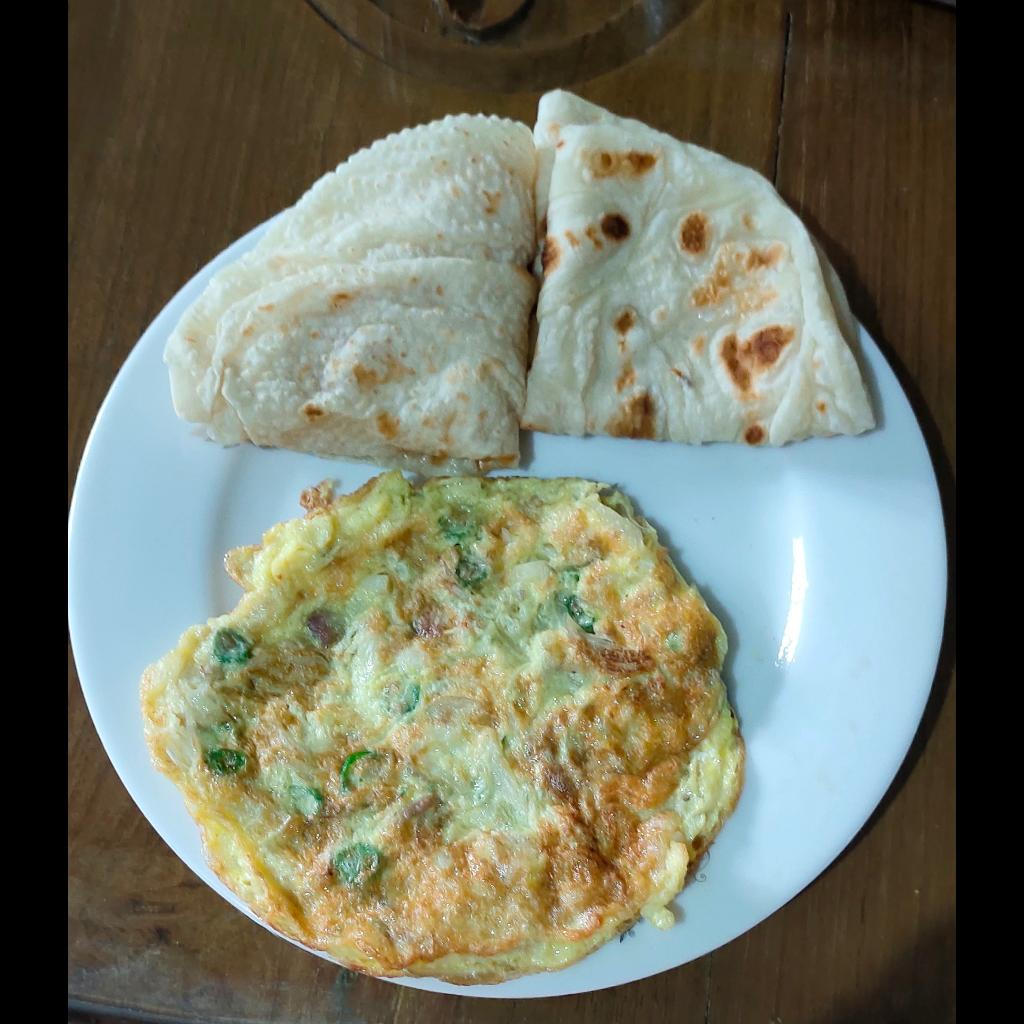egg-poached: (140, 469, 744, 990)
ruti: (160, 87, 874, 472)
